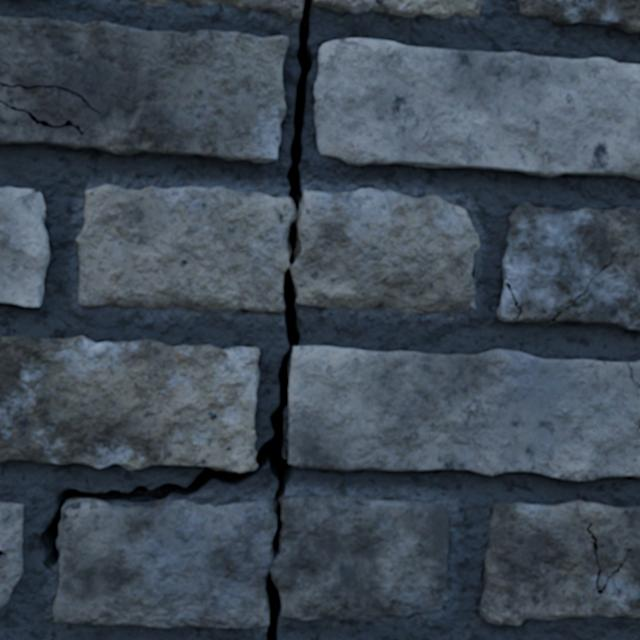broken_brick: (53, 495, 448, 628), (76, 185, 479, 313), (314, 0, 483, 19), (140, 0, 302, 19)
crack: (0, 267, 639, 568), (314, 38, 639, 179), (0, 16, 288, 162), (480, 500, 639, 625), (497, 203, 639, 330), (284, 0, 315, 265), (0, 187, 49, 307), (517, 0, 639, 33), (0, 502, 23, 607), (265, 573, 288, 639)
